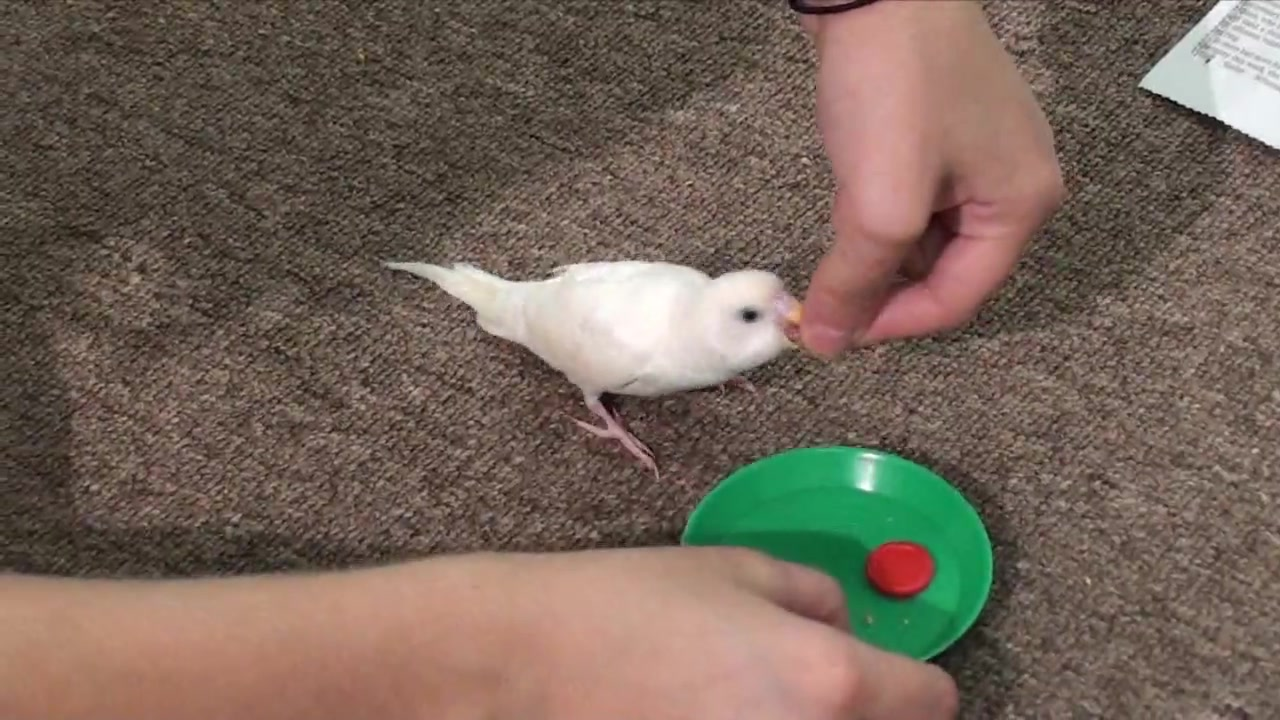bird: (384, 259, 804, 481)
